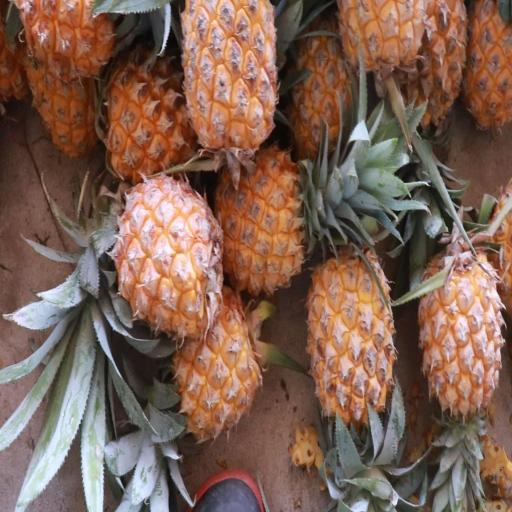Pineapple - v8 v1: (307, 241, 399, 451), (113, 175, 226, 344), (417, 227, 504, 427), (166, 272, 264, 446), (210, 140, 312, 303), (176, 2, 277, 152), (95, 43, 189, 191), (460, 0, 512, 135)
